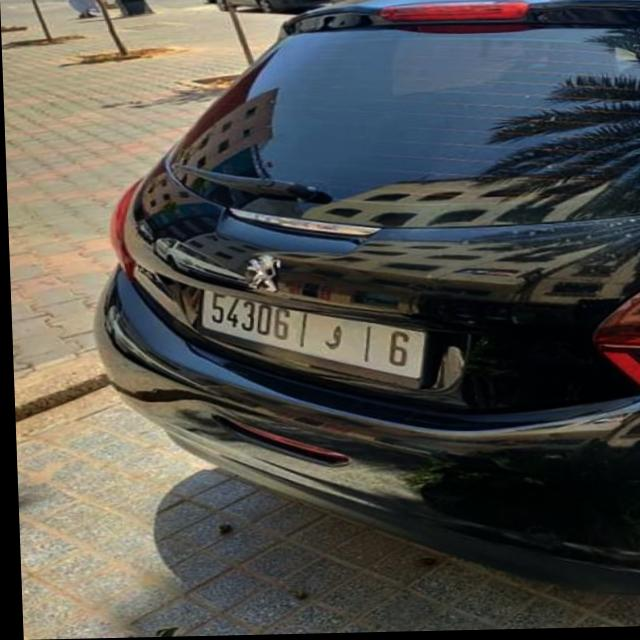License-Plate: (199, 292, 425, 381)
